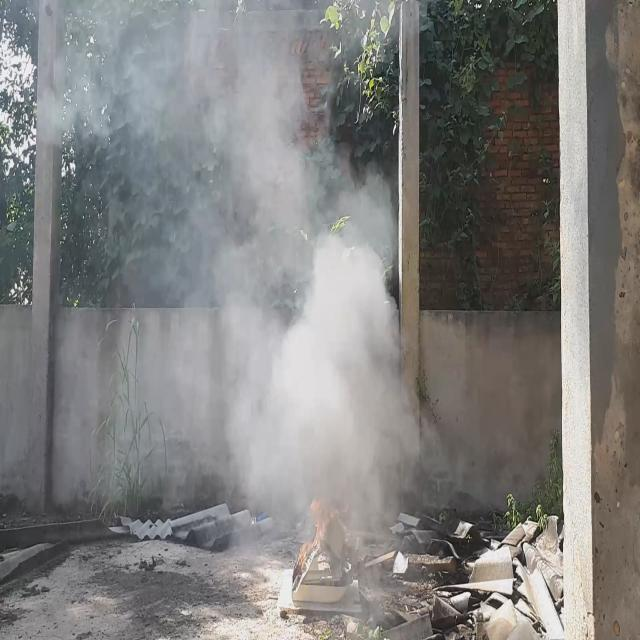Fire: (300, 497, 330, 565)
Smoke: (28, 0, 427, 579)
